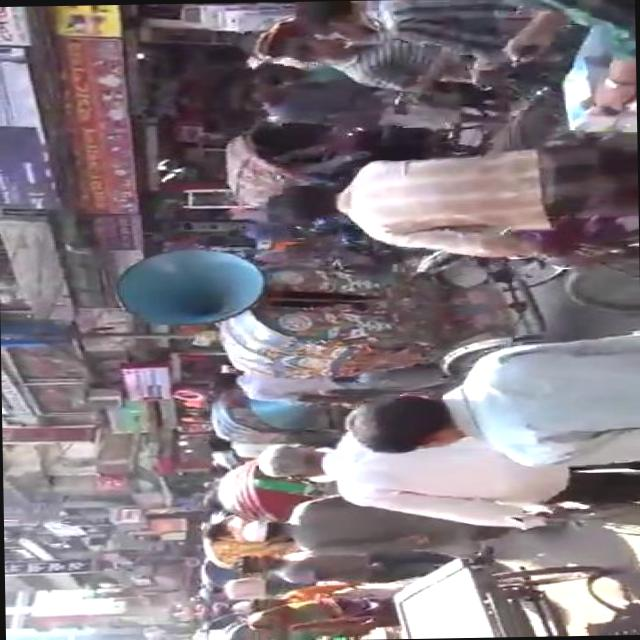motorcycle: (212, 248, 580, 389), (218, 65, 486, 210), (209, 451, 332, 526), (205, 386, 354, 445), (197, 514, 296, 572), (187, 612, 292, 640), (196, 556, 250, 587)
